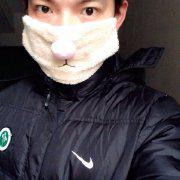OK: (27, 1, 114, 82)
